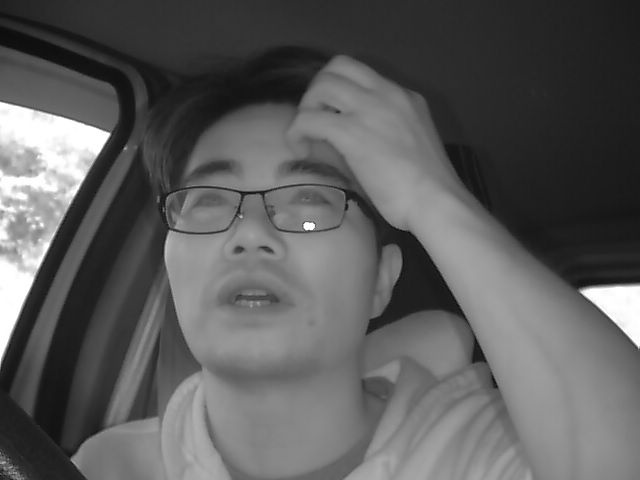hand: (296, 49, 446, 220)
